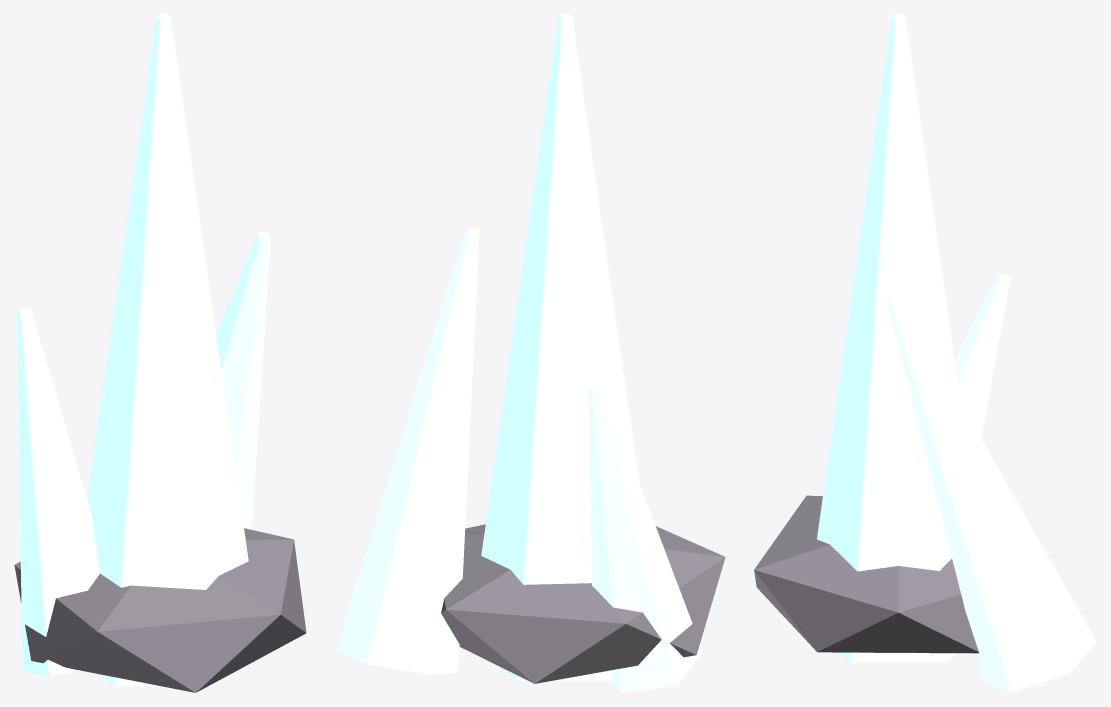
The model's file is crystal.glb.
3 renders of one model, left to right at view 1: azimuth 30°, elevation 25°; view 2: azimuth 150°, elevation 25°; view 3: azimuth 270°, elevation 25°, orthographic. The views are drawn at different scales.
Visible parts, largest first — view 1: SCN_crystal; view 2: SCN_crystal; view 3: SCN_crystal.
Boxes of the visible parts, <box> form: SCN_crystal: <box>14,14,306,692</box>; SCN_crystal: <box>335,14,725,692</box>; SCN_crystal: <box>754,14,1096,692</box>.
Size of the model in its own units: 2.28 by 5.21 by 2.54.
